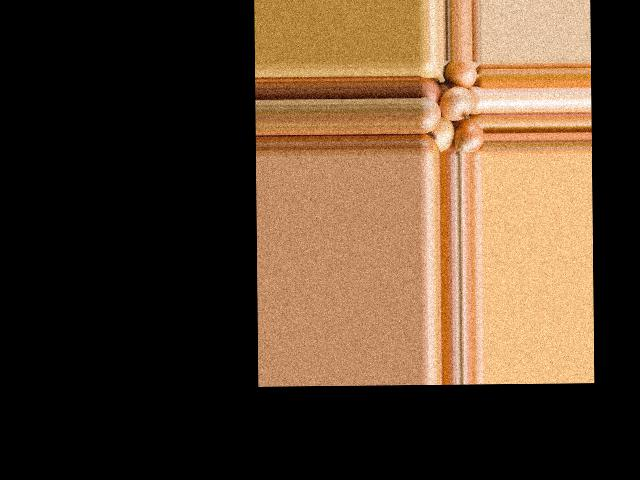onion: (466, 85, 482, 116)
